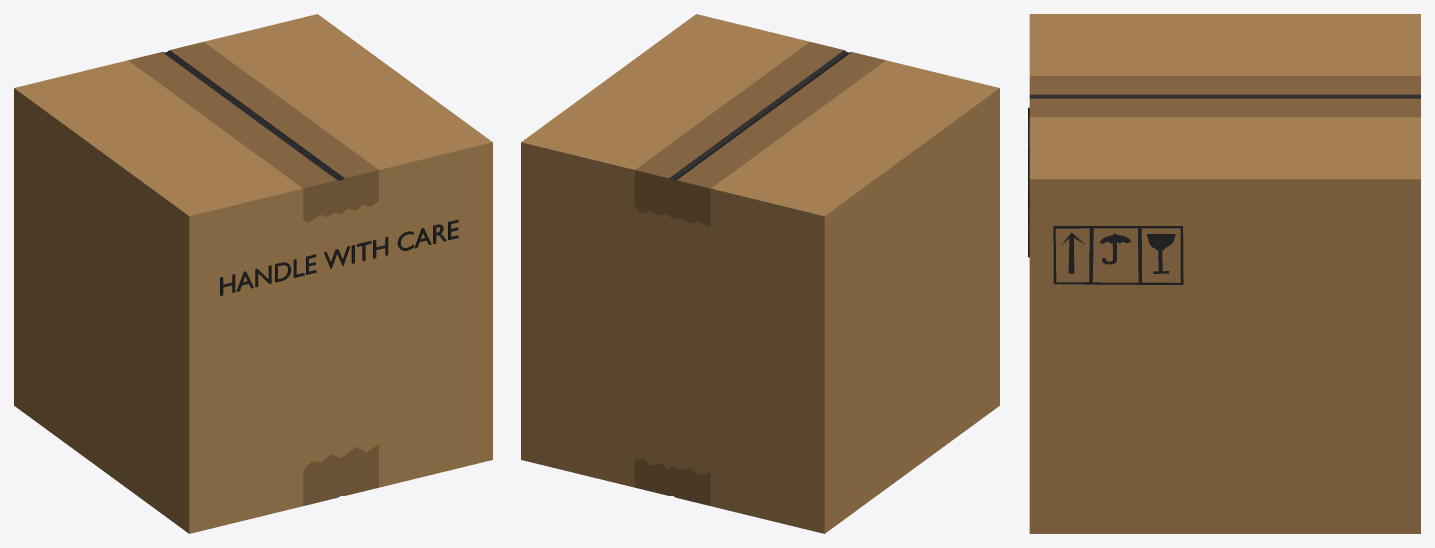
3 views of the same model, side by side, from view 1: azimuth 30°, elevation 25°; view 2: azimuth 150°, elevation 25°; view 3: azimuth 270°, elevation 25° (orthographic). The views are drawn at different scales.
Visible parts, largest first — view 1: Cube, Text; view 2: Cube; view 3: Cube.
Boxes of the visible parts, x1,y1,x2,y2 form: Cube: (14, 14, 492, 533); Text: (220, 219, 458, 295); Cube: (521, 14, 999, 533); Cube: (1029, 14, 1420, 533).
Bounding box in the file's own units: 200 × 200 × 201.
